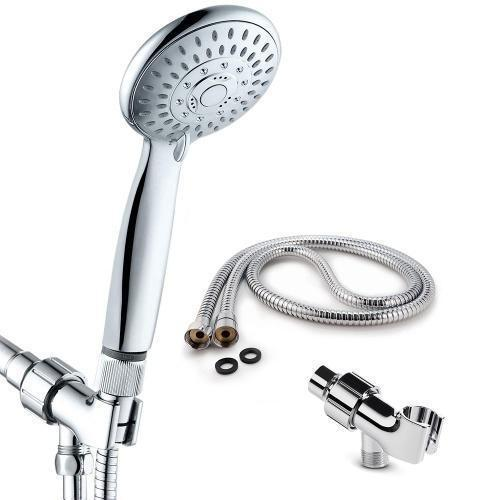Ducha: (0, 0, 456, 499)
